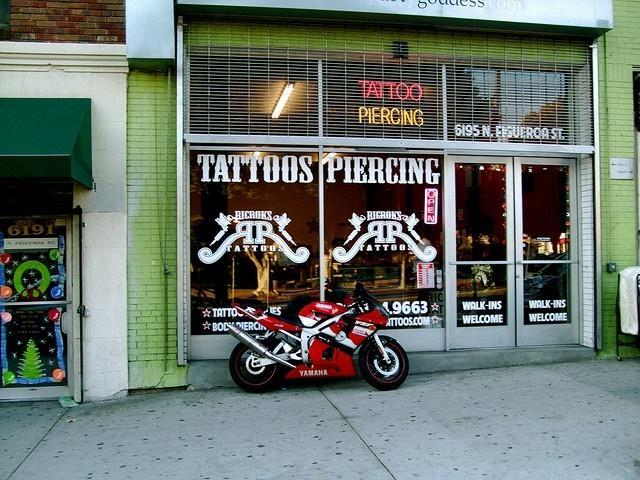motorcycle: (226, 274, 412, 394)
